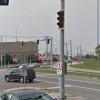Traffic light: (52, 6, 71, 37)
